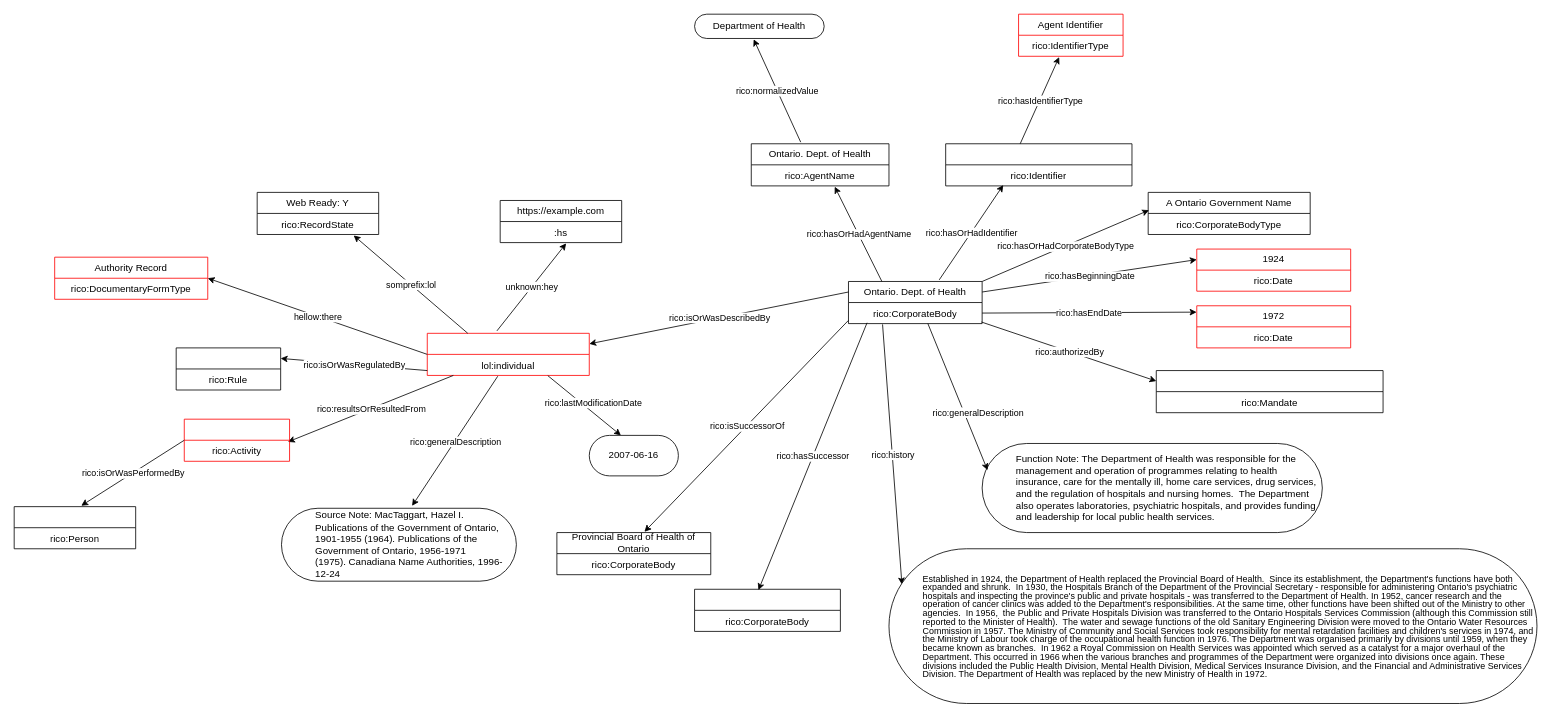
Some shapes in this 1551 by 718 pixel diagram are drawn without their labels. The box of each missing label's shape, as (x1, y1, x2, y2) in pixels:
AA37: (945, 143, 1132, 186)
Authority Record Creation: (183, 418, 290, 461)
Ontario. Dept. of Health Authority Record: (426, 333, 589, 375)
Ontario. Ministry of Health: (694, 588, 840, 631)
R. Anger: (13, 506, 136, 549)
Rules for Archival Description: (175, 347, 281, 390)
The Health Department Act, Statutes of Ontario 1924, Chap. 69: (1155, 370, 1383, 413)
